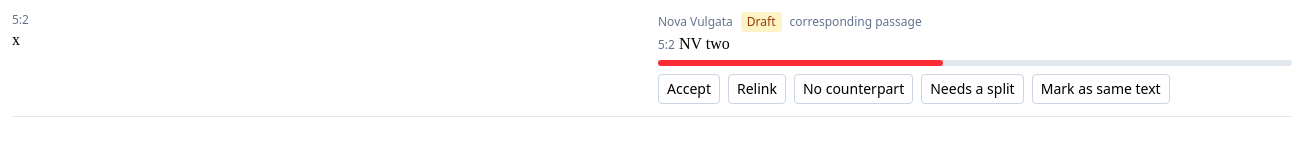
Test: ReviewLink › aFailedChangeSaysSo
Click the button "No counterpart" at (854, 89), box [794, 74, 913, 104]
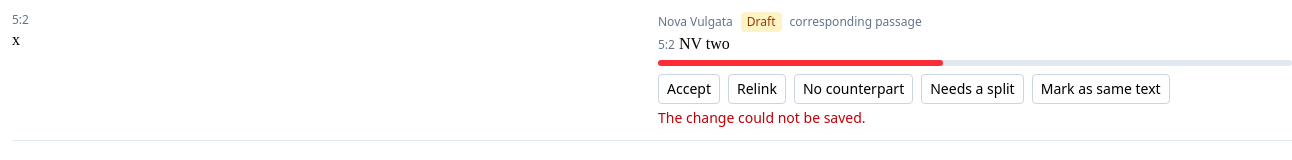
Result: the message reads "The change could not be saved." at [658, 108, 866, 127]
